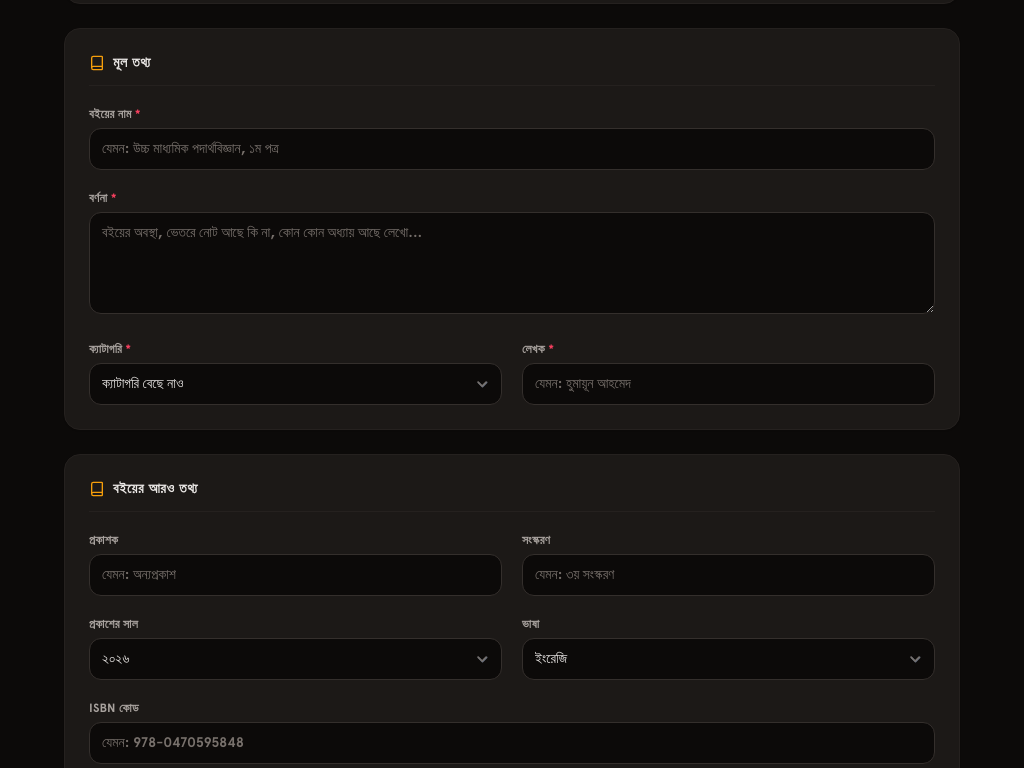
AddProduct Multi-step Wizard Component › shows the course picker only when the category is Academic
(page scrolled)
Expected: the field labelled "প্রোগ্রাম" is not shown
# Change Category to Academic
Select "একাডেমিক" in the dropdown labelled "ক্যাটাগরি *": (296, 384) top-left (89, 363), bottom-right (502, 405)
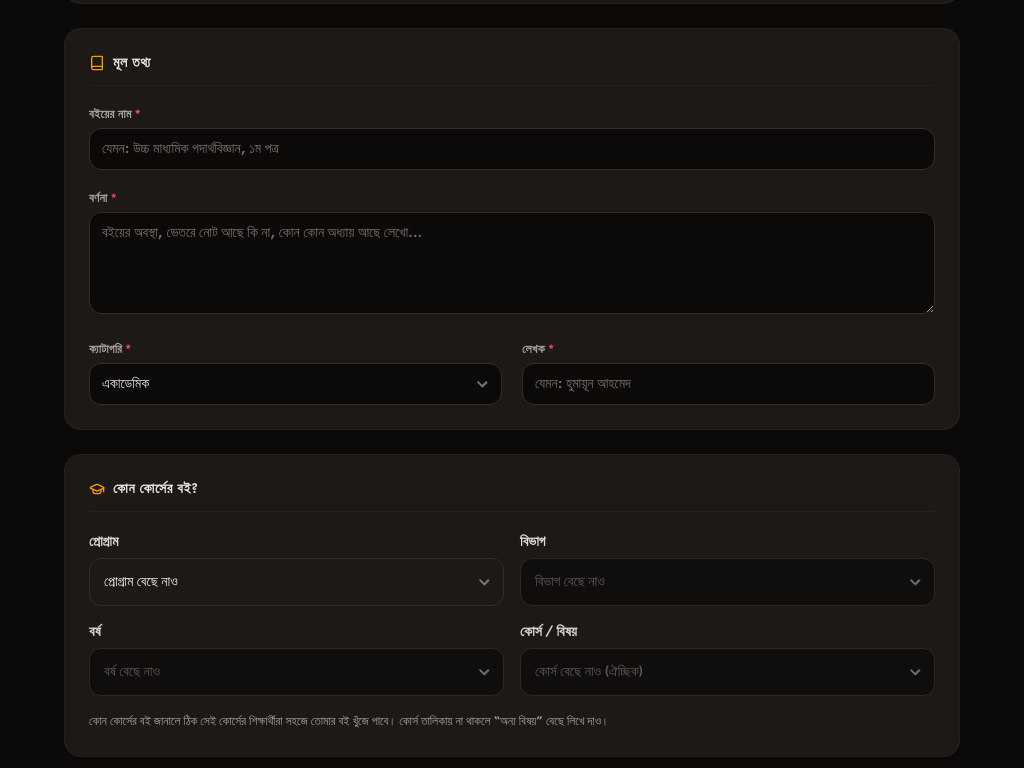
Result: the dropdown labelled "প্রোগ্রাম" is shown at top-left (89, 558), bottom-right (504, 606)
Result: the dropdown labelled "কোর্স / বিষয়" is shown at top-left (520, 648), bottom-right (935, 696)
